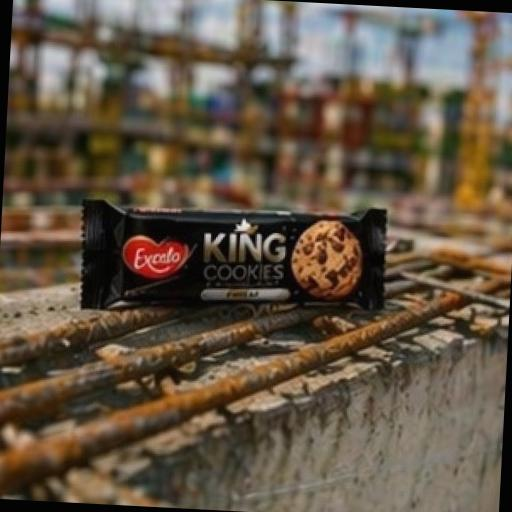king_cooking: (44, 140, 446, 410)
